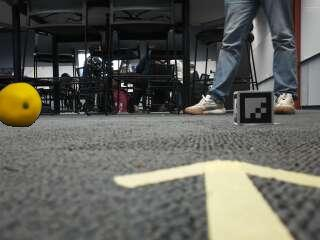lemon: (1, 83, 42, 126)
